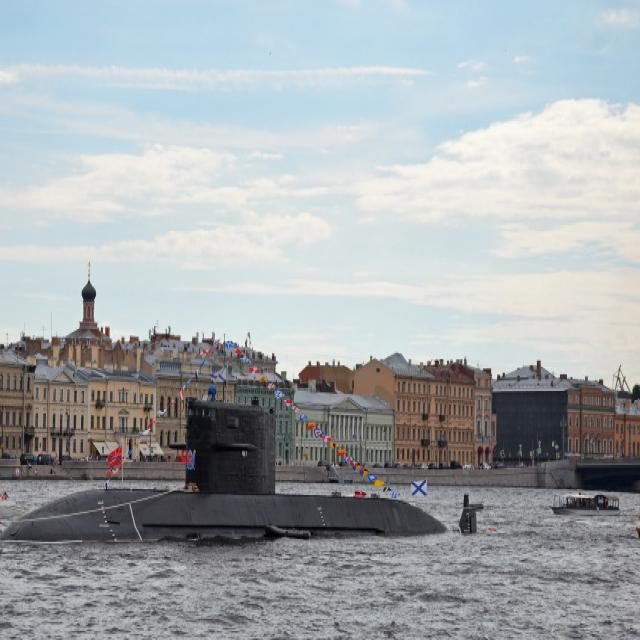submarine: (1, 392, 490, 538)
